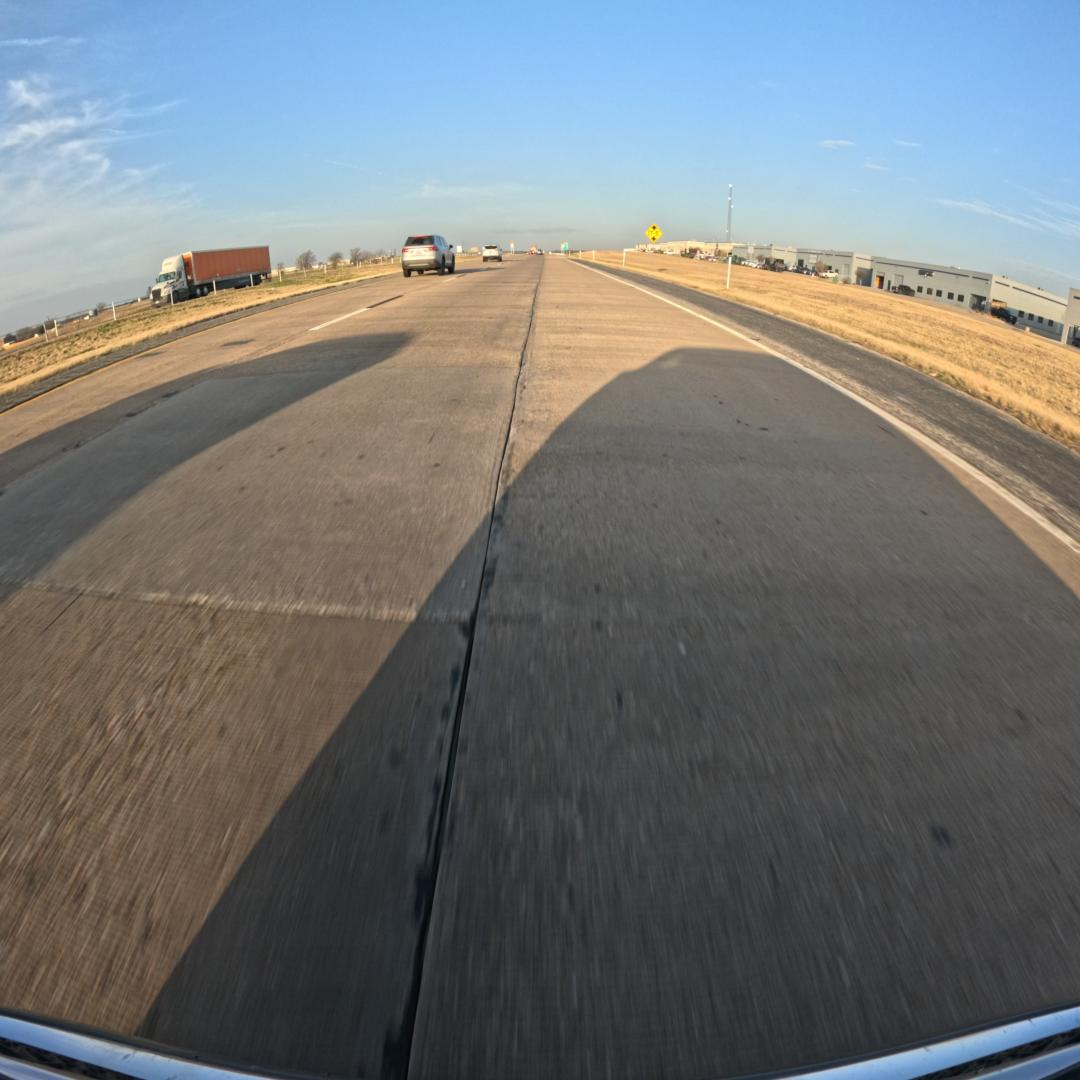lane0: (411, 258, 1080, 1077)
lane1: (0, 261, 542, 1077)
